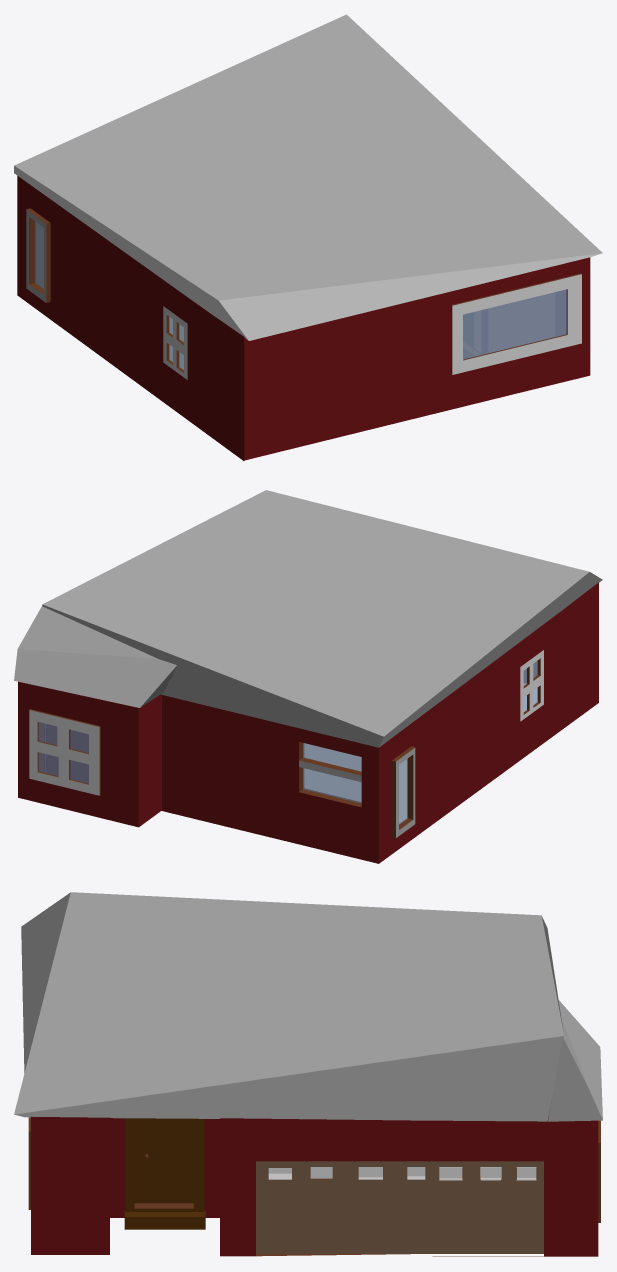
Rendered from house8.fbx.
3 views of the same model, one above another, from view 1: azimuth 30°, elevation 25°; view 2: azimuth 150°, elevation 25°; view 3: azimuth 270°, elevation 25° (orthographic). The views are drawn at different scales.
Parts seen in each view (by area): view 1: house8, Cube; view 2: house8, Cube; view 3: house8.
Part boxes in pixels (left/top/right/bottom): house8: left=14, top=14, right=602, bottom=460; Cube: left=34, top=221, right=43, bottom=289; house8: left=14, top=490, right=602, bottom=863; Cube: left=399, top=758, right=407, bottom=824; house8: left=14, top=892, right=602, bottom=1256.
Bounding box in the file's own units: 2078 × 1073 × 2603.
